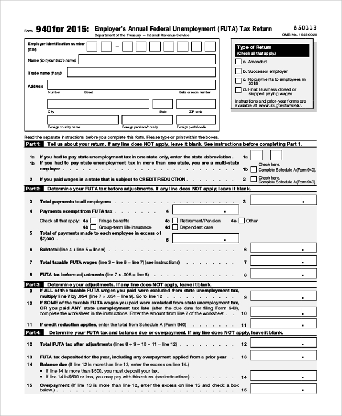checkbox: (234, 57, 242, 66), (234, 76, 242, 85), (234, 85, 242, 94), (250, 174, 258, 183), (238, 216, 246, 225), (171, 215, 179, 224), (171, 222, 179, 231), (89, 216, 97, 225), (89, 222, 97, 231), (234, 67, 242, 75), (250, 165, 258, 173)
textbox: (46, 79, 217, 91), (66, 66, 217, 78), (77, 53, 217, 65), (47, 98, 150, 109), (249, 240, 319, 254), (171, 202, 240, 216), (248, 348, 319, 361), (248, 369, 319, 382), (249, 193, 319, 206), (171, 231, 241, 244), (249, 254, 319, 267), (249, 266, 319, 279), (249, 289, 319, 302), (249, 305, 319, 318), (249, 317, 319, 330), (249, 336, 319, 349), (249, 381, 319, 394), (46, 113, 120, 125), (120, 113, 174, 125), (175, 98, 217, 110), (175, 113, 217, 125), (152, 98, 174, 109), (248, 149, 264, 161), (268, 149, 284, 161), (85, 40, 99, 52), (134, 40, 148, 52), (203, 40, 217, 52), (100, 40, 113, 52), (121, 40, 134, 52), (148, 40, 161, 52), (162, 40, 175, 52), (176, 40, 189, 52), (190, 40, 203, 52)
